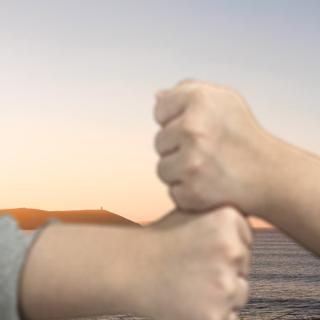CAREFUL: (36, 79, 319, 317)
